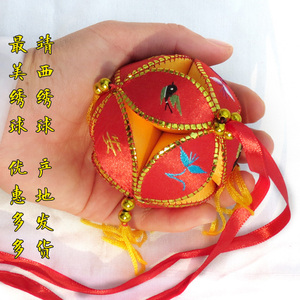xiuqiu: (89, 54, 247, 208)
